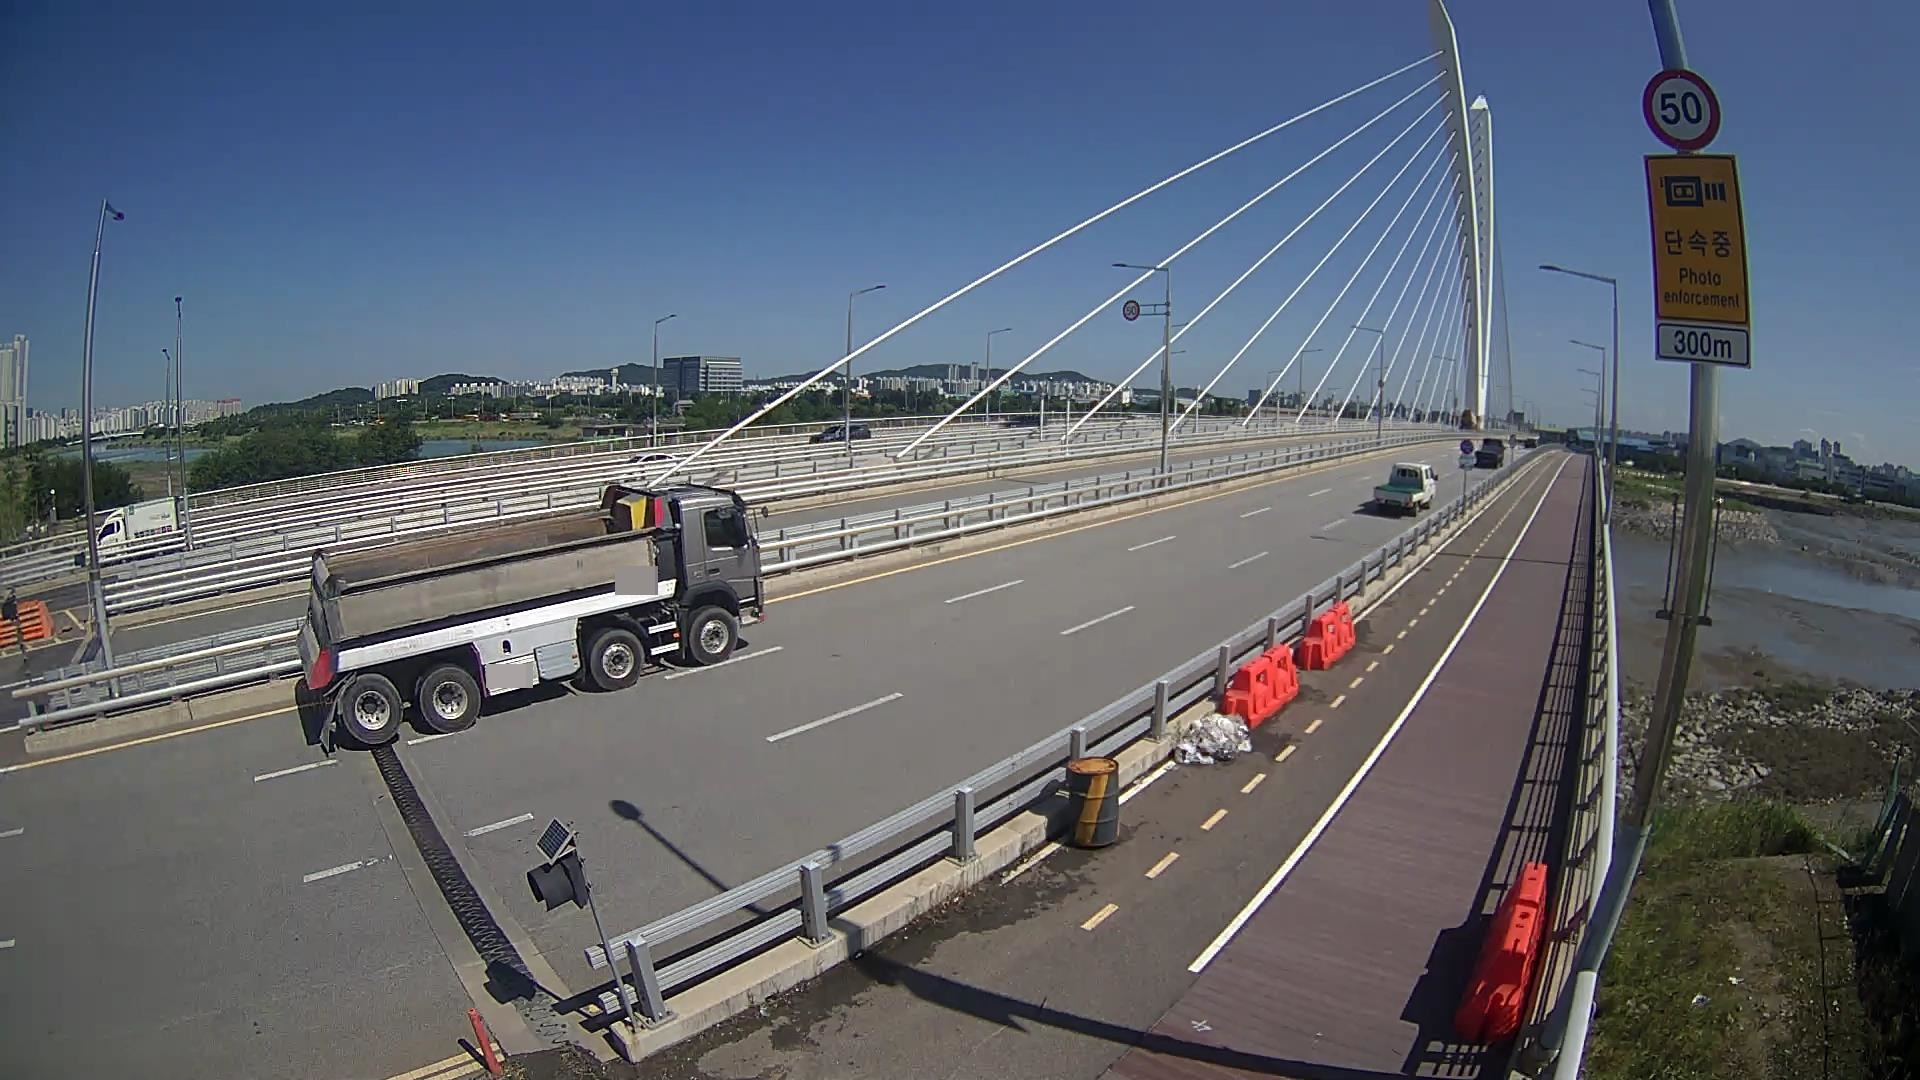정상차량: (295, 484, 769, 753)
